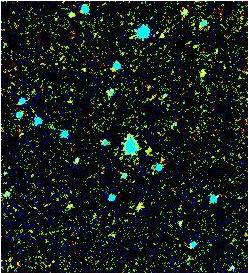star: (134, 134, 164, 164)
